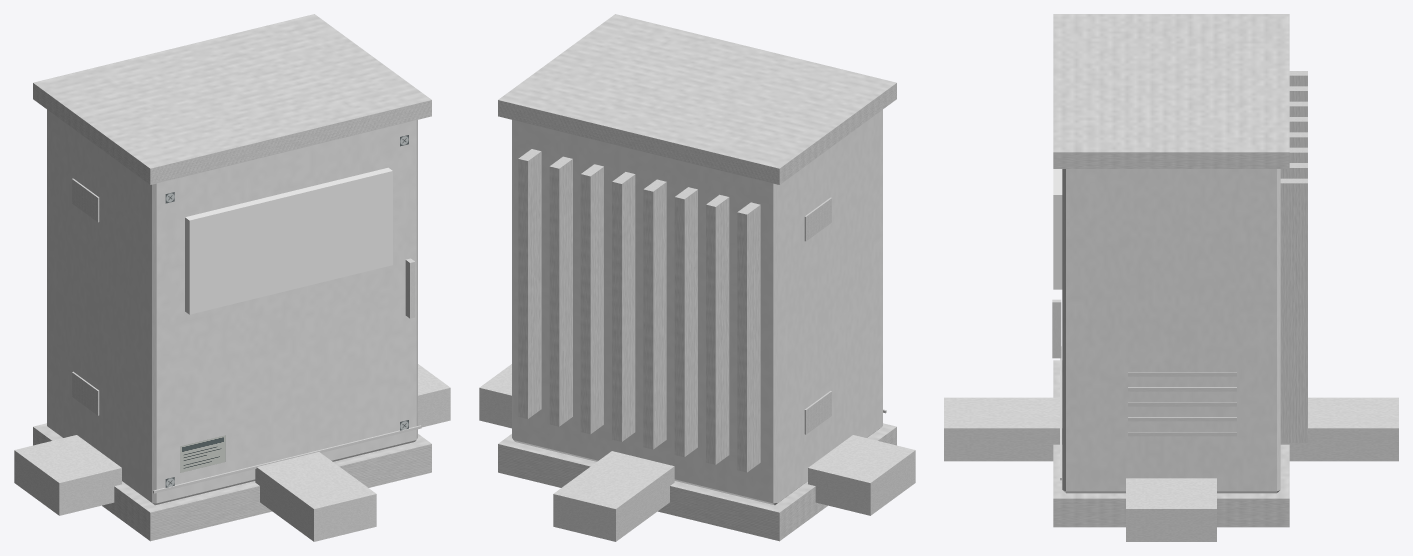
The model's file is solarhybrid.obj.
3 views of the same model, side by side, from view 1: azimuth 30°, elevation 25°; view 2: azimuth 150°, elevation 25°; view 3: azimuth 270°, elevation 25° (orthographic).
Visible parts, largest first — view 1: Case, Trim, Display, Grid, Solar, Output; view 2: Trim, Case, Return, Solar, Output; view 3: Case, Trim, Grid, Return, Output, Display.
Boxes of the visible parts, bbox=[...] form: Case: bbox=[47, 109, 417, 505]; Trim: bbox=[33, 14, 431, 541]; Display: bbox=[185, 167, 392, 314]; Grid: bbox=[255, 452, 376, 541]; Solar: bbox=[14, 435, 121, 515]; Output: bbox=[418, 364, 450, 427]; Trim: bbox=[498, 14, 896, 541]; Case: bbox=[512, 109, 882, 505]; Return: bbox=[553, 451, 674, 541]; Solar: bbox=[808, 435, 915, 515]; Output: bbox=[479, 364, 511, 428]; Case: bbox=[1062, 169, 1280, 493]; Trim: bbox=[1052, 14, 1307, 527]; Grid: bbox=[944, 397, 1062, 461]; Return: bbox=[1280, 397, 1398, 461]; Output: bbox=[1126, 478, 1216, 541]; Display: bbox=[1053, 169, 1062, 289].
Bounding box in the file's own units: 1 × 0.91 × 1.
